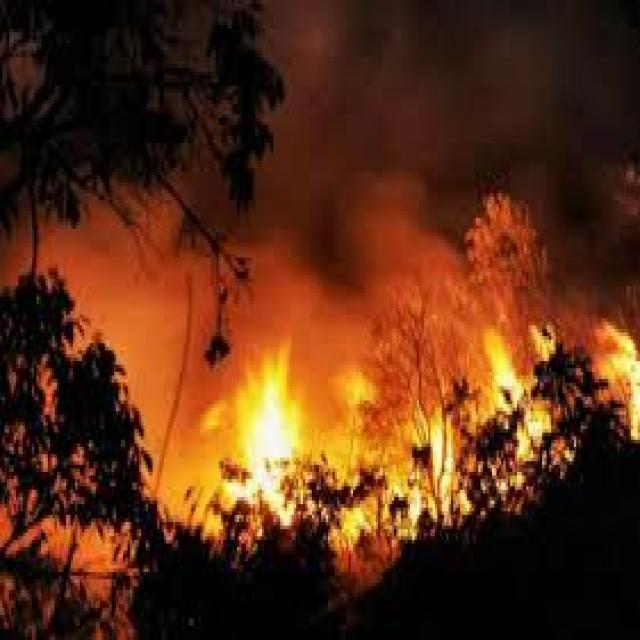Fire: (346, 340, 564, 536), (214, 366, 316, 542), (592, 318, 640, 451)
